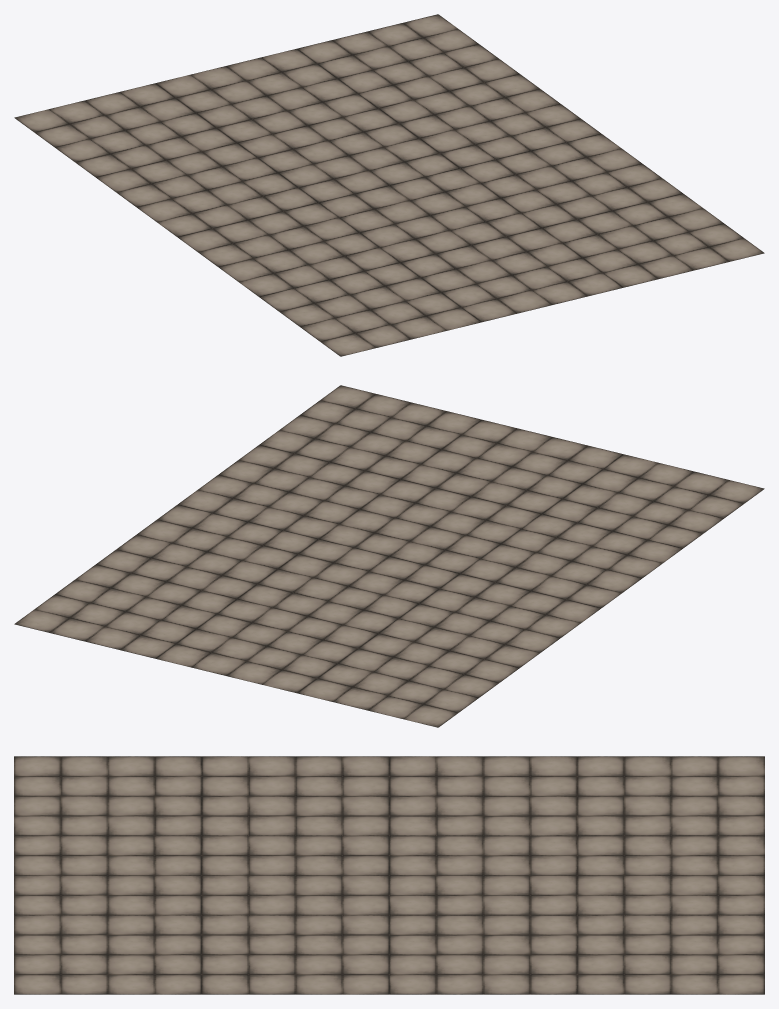
Rendered from Lab.fbx.
3 renders of one model, top to bottom at view 1: azimuth 30°, elevation 25°; view 2: azimuth 150°, elevation 25°; view 3: azimuth 270°, elevation 25°, orthographic. The views are drawn at different scales.
Parts seen in each view (by area): view 1: Plane.001, Plane.004, Plane.006, Plane.007, Plane.002, Plane.005, Plane.009, Plane.010, Plane, Plane.003, Plane.008, Plane.011; view 2: Plane.002, Plane.003, Plane.005, Plane.008, Plane.001, Plane.007, Plane.009, Plane.010, Plane, Plane.004, Plane.006, Plane.011; view 3: Plane.009, Plane.010, Plane, Plane.011, Plane.003, Plane.004, Plane.006, Plane.008, Plane.001, Plane.002, Plane.005, Plane.007.
Boxes of the visible parts, left/top/right/bottom form: Plane.001: left=297, top=14, right=519, bottom=108; Plane.004: left=379, top=74, right=601, bottom=168; Plane.006: left=177, top=202, right=399, bottom=296; Plane.007: left=259, top=262, right=481, bottom=356; Plane.002: left=14, top=83, right=236, bottom=177; Plane.005: left=542, top=193, right=764, bottom=287; Plane.009: left=319, top=168, right=541, bottom=262; Plane.010: left=237, top=108, right=459, bottom=202; Plane: left=156, top=48, right=377, bottom=142; Plane.003: left=460, top=134, right=682, bottom=227; Plane.008: left=96, top=143, right=318, bottom=236; Plane.011: left=401, top=228, right=622, bottom=322; Plane.002: left=297, top=633, right=519, bottom=727; Plane.003: left=177, top=445, right=399, bottom=539; Plane.005: left=259, top=385, right=481, bottom=479; Plane.008: left=379, top=573, right=601, bottom=667; Plane.001: left=14, top=564, right=236, bottom=658; Plane.007: left=542, top=454, right=764, bottom=548; Plane.009: left=319, top=479, right=541, bottom=573; Plane.010: left=237, top=539, right=459, bottom=633; Plane: left=156, top=599, right=377, bottom=693; Plane.004: left=96, top=505, right=318, bottom=598; Plane.006: left=460, top=514, right=682, bottom=607; Plane.011: left=401, top=419, right=622, bottom=513; Plane.009: left=201, top=835, right=389, bottom=915; Plane.010: left=389, top=835, right=577, bottom=915; Plane: left=577, top=835, right=764, bottom=915; Plane.011: left=14, top=835, right=201, bottom=915; Plane.003: left=201, top=915, right=389, bottom=994; Plane.004: left=389, top=915, right=577, bottom=994; Plane.006: left=201, top=756, right=389, bottom=835; Plane.008: left=389, top=756, right=577, bottom=835; Plane.001: left=577, top=915, right=764, bottom=994; Plane.002: left=577, top=756, right=764, bottom=835; Plane.005: left=14, top=915, right=201, bottom=994; Plane.007: left=14, top=756, right=201, bottom=835.
Size of the model in its own units: 1200 by 0 by 1600.
